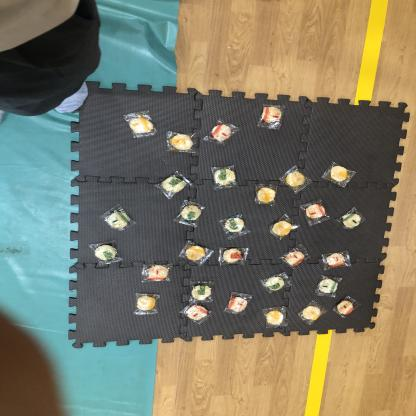green_setoshio: (86, 238, 125, 267), (154, 170, 192, 198), (101, 204, 136, 233), (175, 199, 206, 230), (258, 270, 294, 296), (220, 212, 249, 241), (209, 164, 240, 191), (186, 277, 217, 302), (338, 206, 366, 230), (316, 276, 341, 298)
red_setoshio: (204, 118, 242, 147), (222, 287, 256, 316), (300, 198, 332, 226), (257, 104, 288, 130), (180, 303, 215, 325), (333, 296, 365, 320), (279, 245, 311, 268), (141, 262, 173, 284), (217, 245, 250, 266), (324, 250, 351, 271)
yellow_setoshio: (123, 110, 160, 138), (178, 241, 216, 265), (323, 162, 357, 188), (279, 167, 313, 192), (163, 130, 197, 154), (131, 291, 164, 315), (268, 214, 298, 239), (251, 182, 280, 207), (297, 301, 327, 325), (261, 307, 290, 329)
